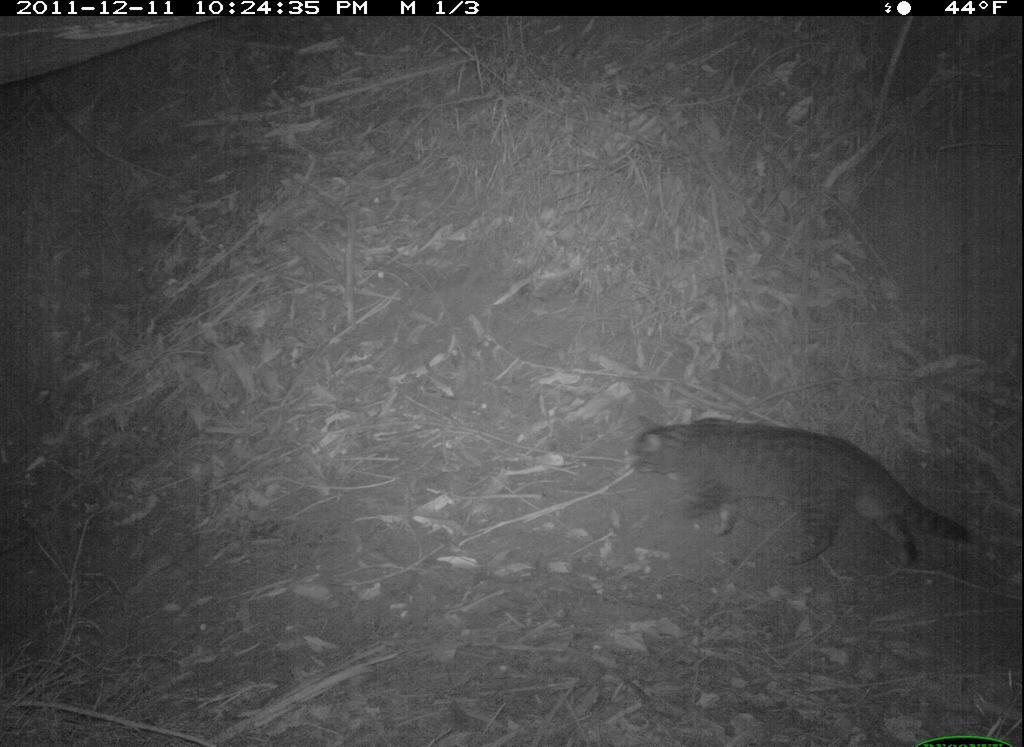cat: (626, 410, 977, 574)
